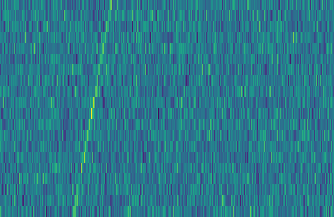signal: (68, 0, 116, 217)
